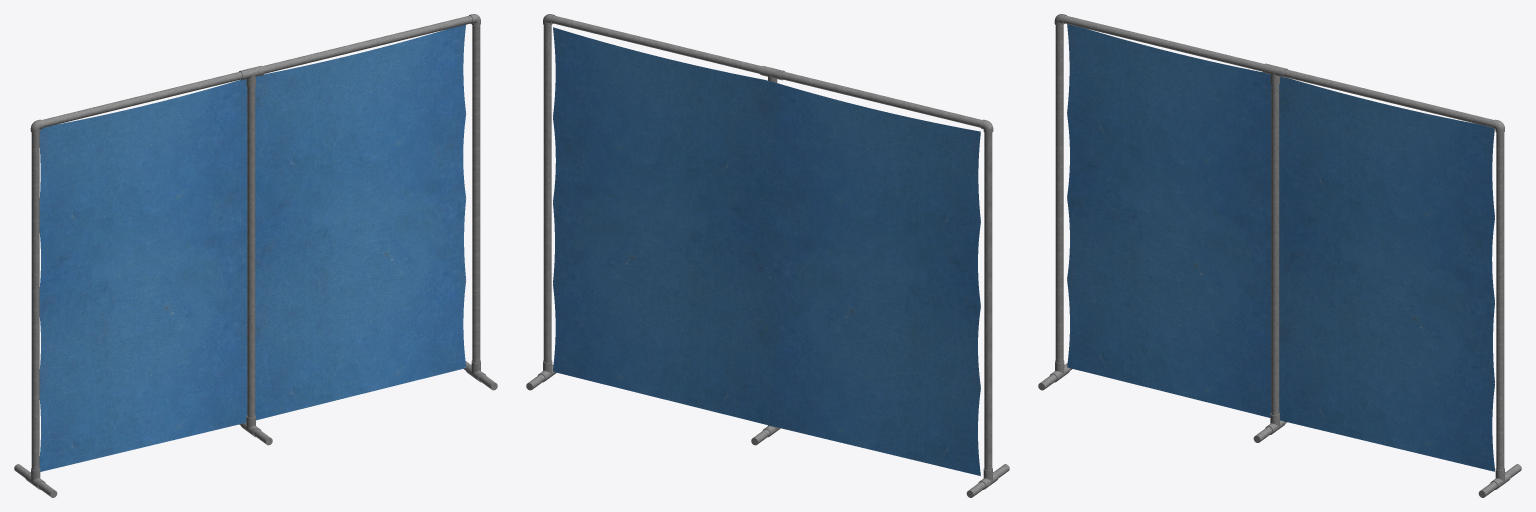
The model's file is plot_stavebni.glb.
The picture shows the model from 3 angles, left to right: view 1: azimuth 30°, elevation 25°; view 2: azimuth 150°, elevation 25°; view 3: azimuth 330°, elevation 25°; orthographic projection.
Visible parts, largest first — view 1: Geom3D_7, Geom3D_4; view 2: Geom3D_7, Geom3D_4; view 3: Geom3D_7, Geom3D_4.
Part boxes in pixels (x1,y1,x2,y2): Geom3D_7: (39,25,466,471); Geom3D_4: (14,14,497,497); Geom3D_7: (553,27,980,475); Geom3D_4: (526,14,1009,497); Geom3D_7: (1067,24,1494,471); Geom3D_4: (1038,14,1521,497).
Size of the model in its own units: 2.58 by 2 by 0.3605.
Materials: 4 (2 with a texture image).
